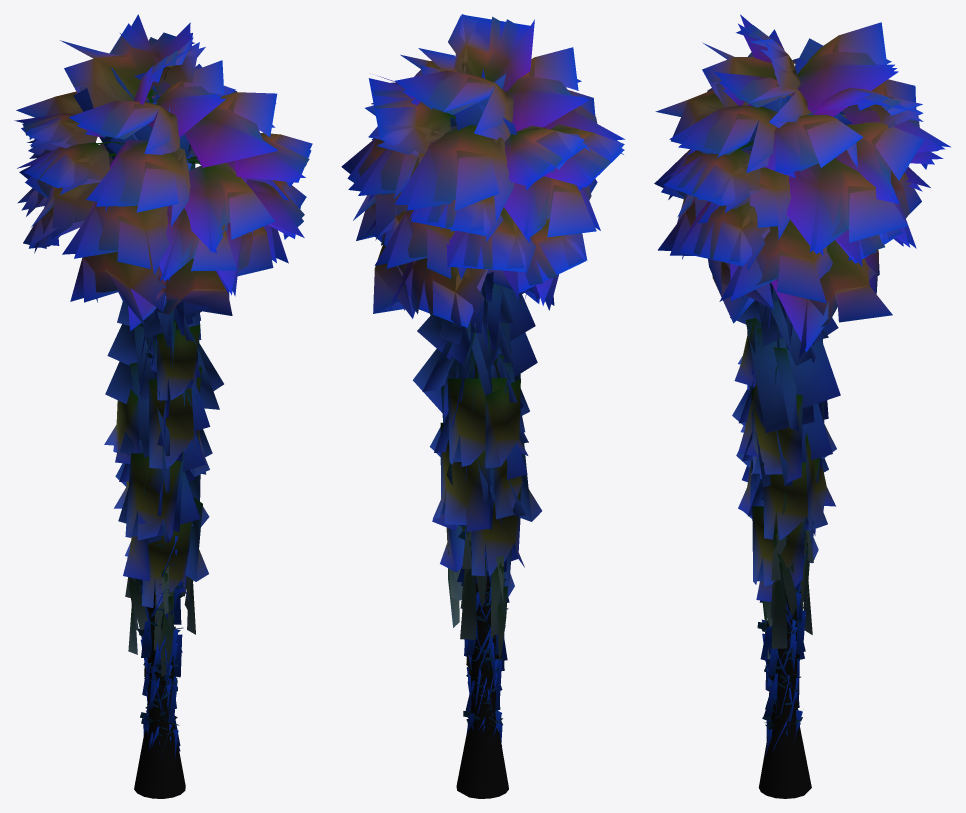
The model's file is italy_palm_1_test.dae.
The picture shows the model from 3 angles, left to right: view 1: azimuth 30°, elevation 25°; view 2: azimuth 150°, elevation 25°; view 3: azimuth 270°, elevation 25°; orthographic projection.
Parts seen in each view (by area): view 1: italy_palm_1_b700, italy_palm_1_b200; view 2: italy_palm_1_b700, italy_palm_1_b200; view 3: italy_palm_1_b700, italy_palm_1_b200.
Part boxes in pixels (x1,y1,x2,y2): italy_palm_1_b700: [14, 14, 312, 798]; italy_palm_1_b200: [16, 23, 311, 735]; italy_palm_1_b700: [341, 14, 625, 798]; italy_palm_1_b200: [347, 14, 624, 725]; italy_palm_1_b700: [654, 14, 950, 798]; italy_palm_1_b200: [655, 23, 945, 732].
Size of the model in its own units: 4.67 by 4.68 by 13.22.
